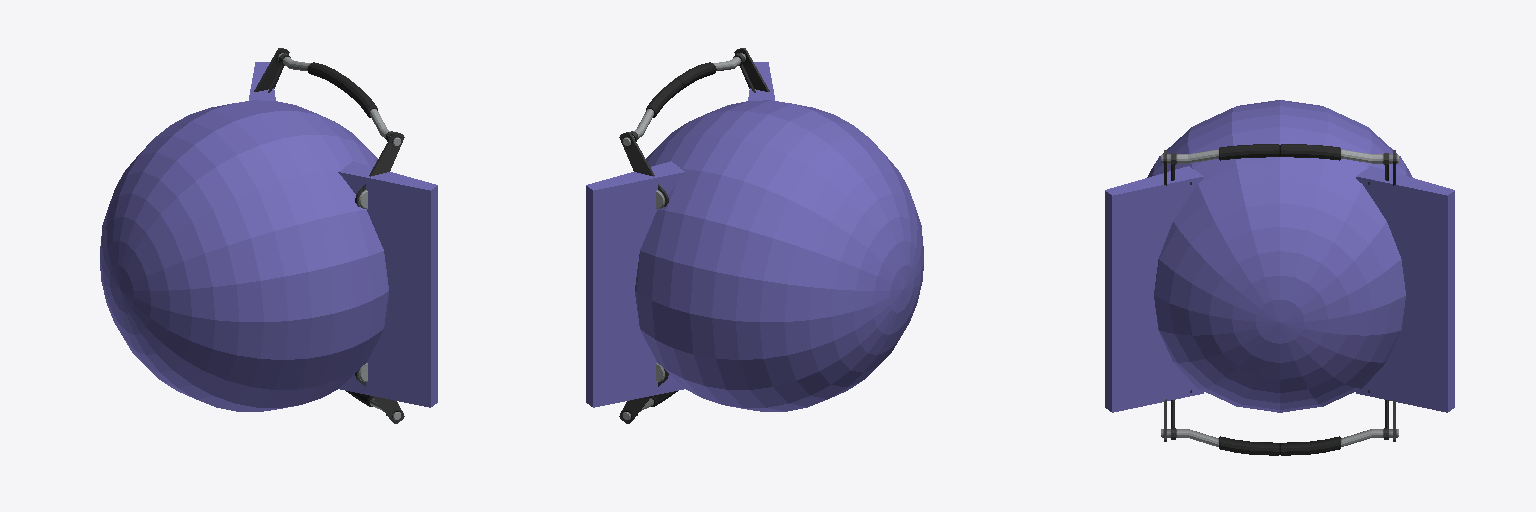
3 renders of one model, left to right at view 1: azimuth 30°, elevation 25°; view 2: azimuth 150°, elevation 25°; view 3: azimuth 270°, elevation 25°, orthographic.
Visible parts, largest first — view 1: personality_sphere_physics, personality_sphere_model; view 2: personality_sphere_physics, personality_sphere_model; view 3: personality_sphere_physics, personality_sphere_model.
Part boxes in pixels (bbox=[...]): personality_sphere_physics: bbox=[100, 62, 437, 411]; personality_sphere_model: bbox=[254, 48, 404, 423]; personality_sphere_physics: bbox=[586, 62, 923, 411]; personality_sphere_model: bbox=[619, 48, 769, 423]; personality_sphere_physics: bbox=[1105, 100, 1454, 412]; personality_sphere_model: bbox=[1161, 144, 1398, 455].
Size of the model in its own units: 34.08 by 37.3 by 38.16.
4 materials, 3 textured.